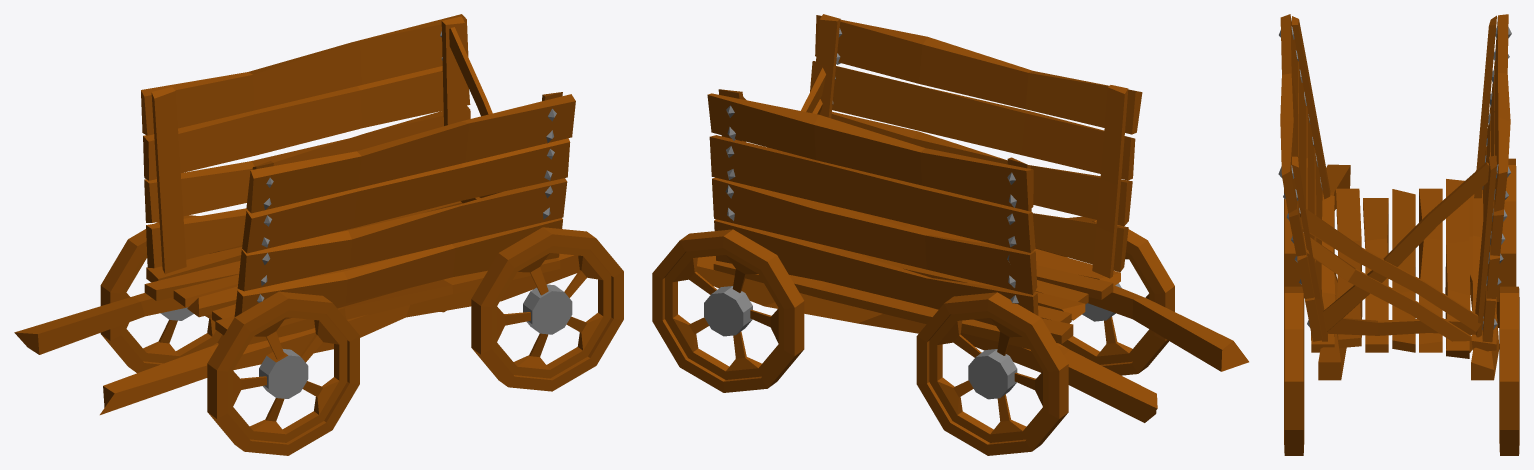
The model's file is chariot.gltf.
3 renders of one model, left to right at view 1: azimuth 30°, elevation 25°; view 2: azimuth 150°, elevation 25°; view 3: azimuth 270°, elevation 25°, orthographic.
Visible parts, largest first — view 1: Planche, roueARG, roueAVG, barre du bas, surface principale, planche qui maintient droite, roueAVD, Arrière, clous; view 2: Planche, roueAVD, roueARD, barre du bas, surface principale, planche qui maintient gauche, roueAVG, clous, Arrière; view 3: surface principale, Planche, Arrière, roueARD, roueARG, barre du bas, planche qui maintient droite, planche qui maintient gauche, roueAVD, roueAVG, clous.
Boxes of the visible parts, <box> form: Planche: <box>141,14,575,319</box>; roueARG: <box>471,227,623,391</box>; roueAVG: <box>207,291,359,455</box>; barre du bas: <box>14,253,579,414</box>; surface principale: <box>144,201,560,344</box>; planche qui maintient droite: <box>151,16,466,273</box>; roueAVD: <box>100,215,242,373</box>; Arrière: <box>449,27,501,203</box>; clous: <box>257,31,556,302</box>; Planche: <box>707,15,1142,325</box>; roueAVD: <box>916,292,1068,455</box>; roueARD: <box>652,229,804,392</box>; barre du bas: <box>696,256,1248,422</box>; surface principale: <box>713,210,1120,349</box>; planche qui maintient gauche: <box>813,14,1128,278</box>; roueAVG: <box>1036,216,1174,375</box>; clous: <box>725,28,1018,303</box>; Arrière: <box>743,67,826,114</box>; surface principale: <box>1311,179,1496,358</box>; Planche: <box>1280,14,1510,342</box>; Arrière: <box>1300,162,1497,352</box>; roueARD: <box>1499,286,1519,455</box>; roueARG: <box>1284,286,1304,455</box>; barre du bas: <box>1318,164,1499,380</box>; planche qui maintient droite: <box>1474,15,1496,337</box>; planche qui maintient gauche: <box>1292,16,1330,341</box>; roueAVD: <box>1496,158,1516,327</box>; roueAVG: <box>1284,189,1304,297</box>; clous: <box>1278,26,1511,329</box>.
Bounding box in the file's own units: 3.14 × 1.75 × 1.31.
2 materials, 2 textured.
